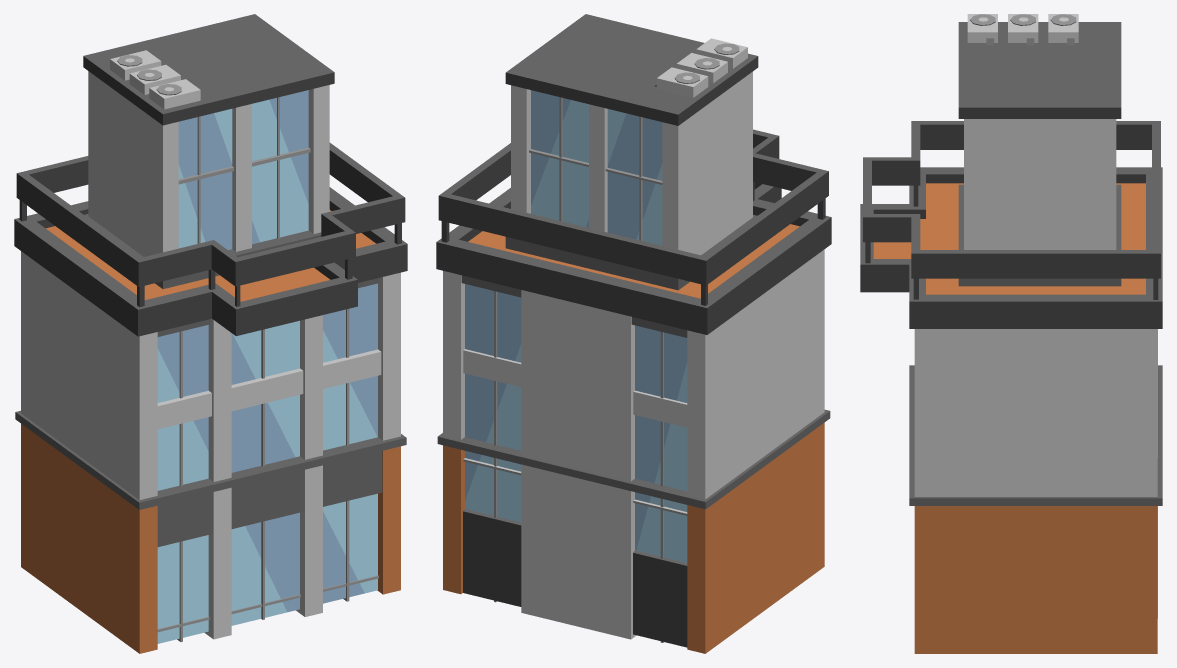
Rendered from hotel_005.fbx.
3 views of the same model, side by side, from view 1: azimuth 30°, elevation 25°; view 2: azimuth 150°, elevation 25°; view 3: azimuth 270°, elevation 25° (orthographic). The views are drawn at different scales.
Visible parts, largest first — view 1: hotel_005; view 2: hotel_005; view 3: hotel_005.
Part boxes in pixels (x1=…): hotel_005: x1=14, y1=14, x2=407, y2=653; hotel_005: x1=436, y1=14, x2=831, y2=653; hotel_005: x1=860, y1=14, x2=1162, y2=653.
Bounding box in the file's own units: 597 × 1117 × 568.
